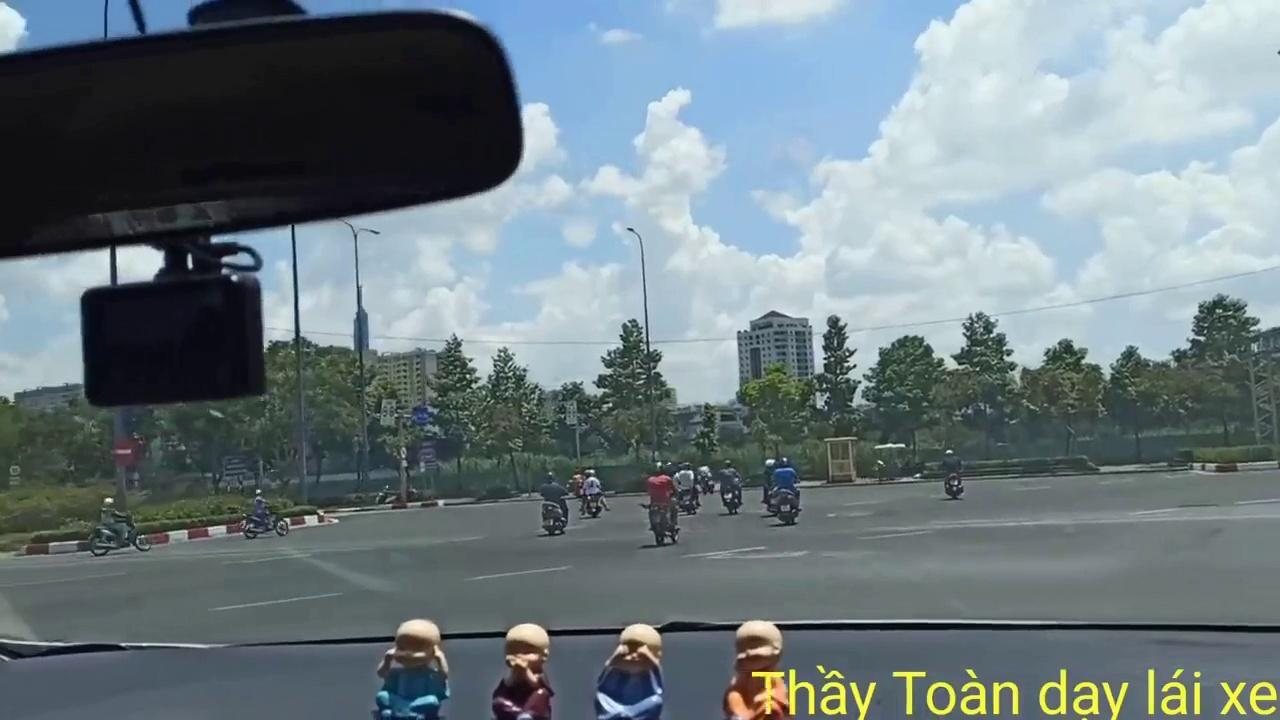Cấm cac phương tiện hoạt động trong khung giờ cố định: (378, 397, 396, 426)
Cấm đi ngược chiều: (110, 436, 141, 468)
Làn đường cho từng xe: (412, 406, 428, 427)
